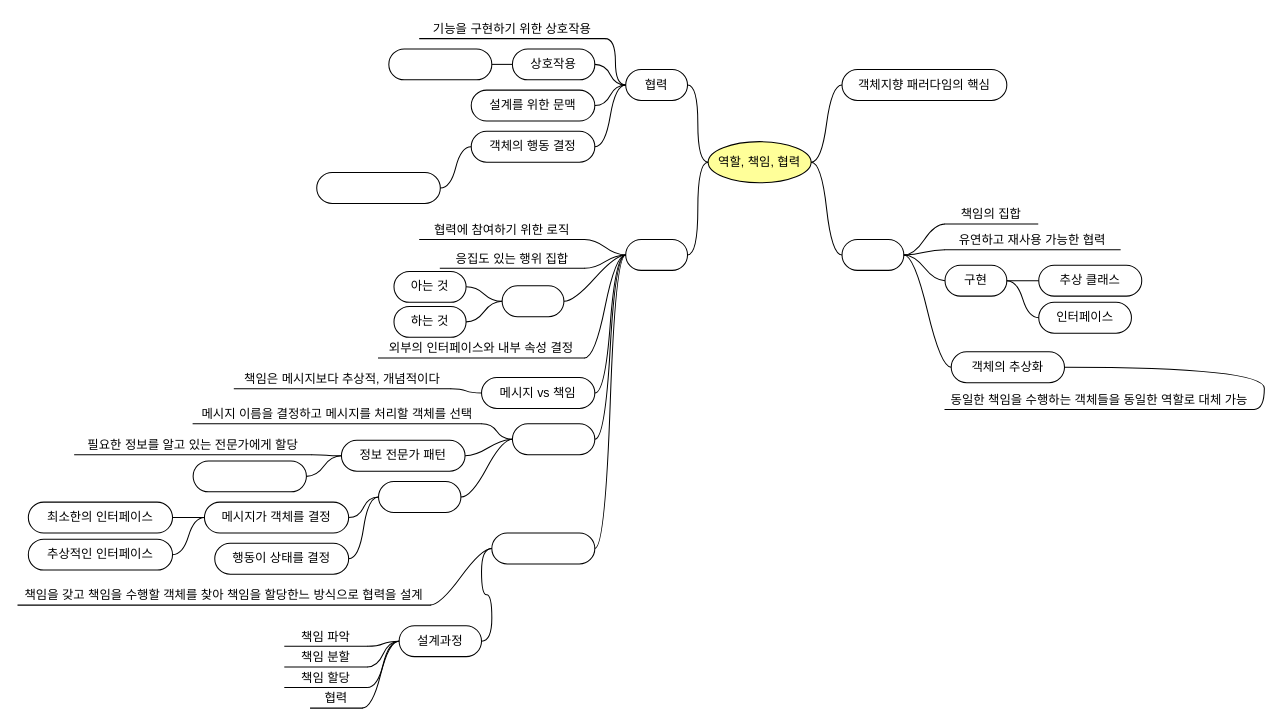
The diagram is 1282 pixels wide and 726 high, and some of its shapes have lost their labels. Here are the shapes that lost their labels. From the top down, the centre of each, then its label:
[440,64]: 메시지 전송
[378,187]: 객체의 상태 결정
[656,254]: 책임
[872,254]: 역할
[532,301]: 범주
[553,439]: 책임할당
[249,476]: 자율적인 존재
[419,496]: 고려사항
[543,548]: 책임주도설계
